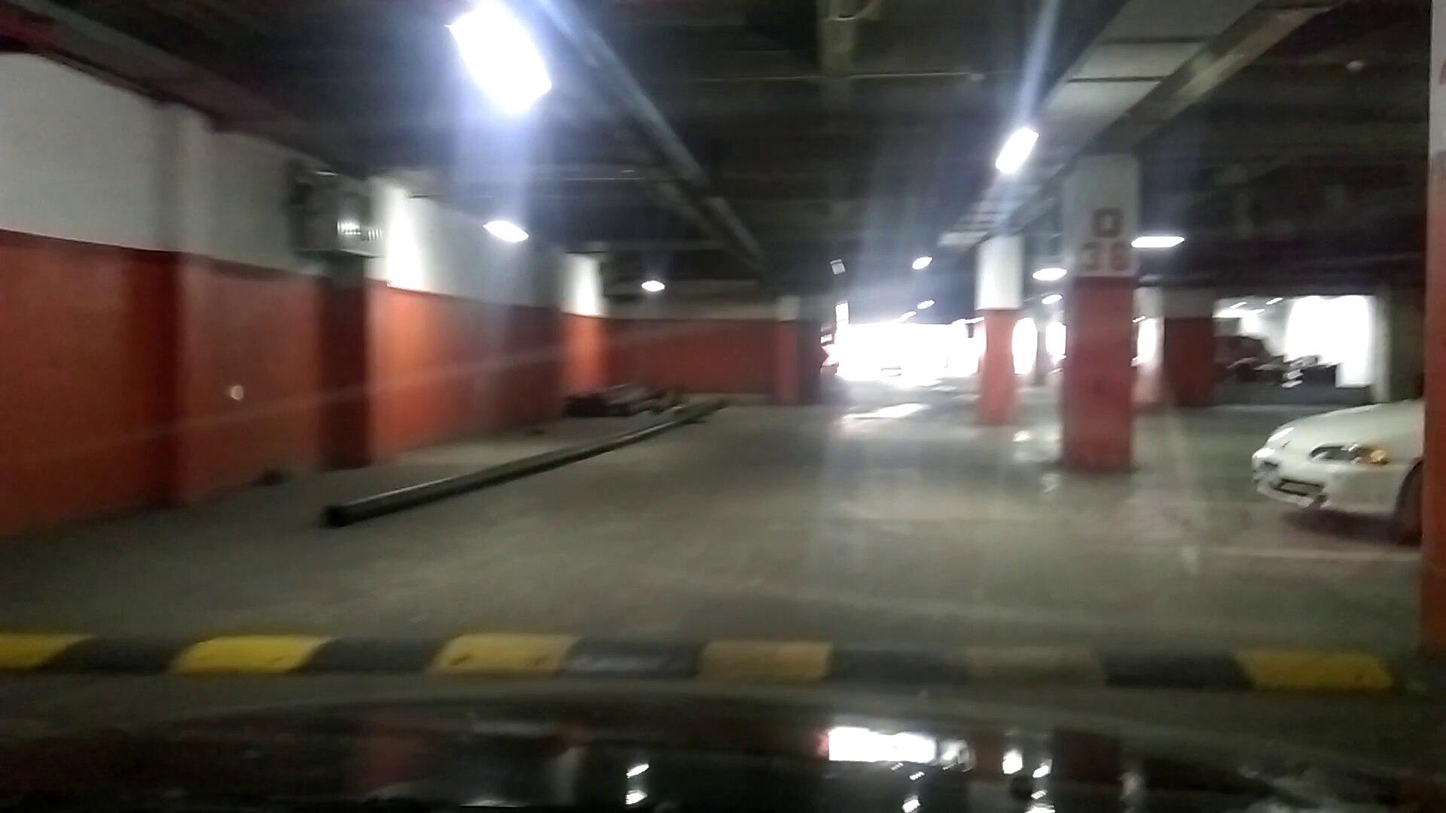Bump: (2, 612, 1440, 719)
